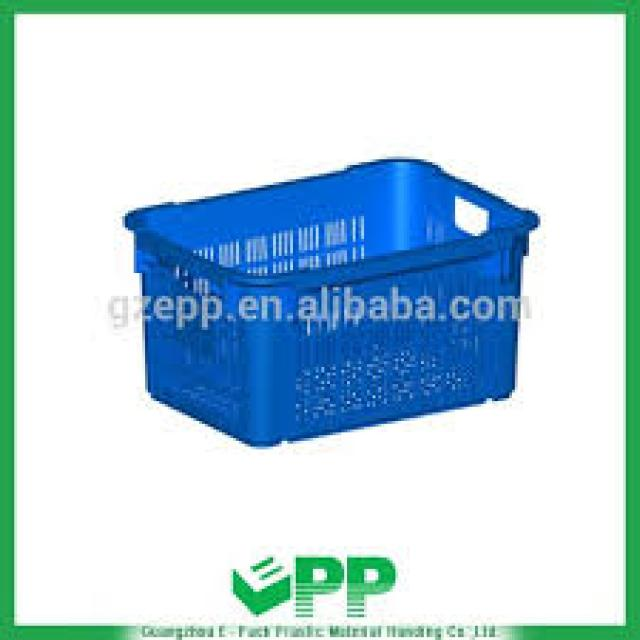basket: (114, 134, 574, 468)
